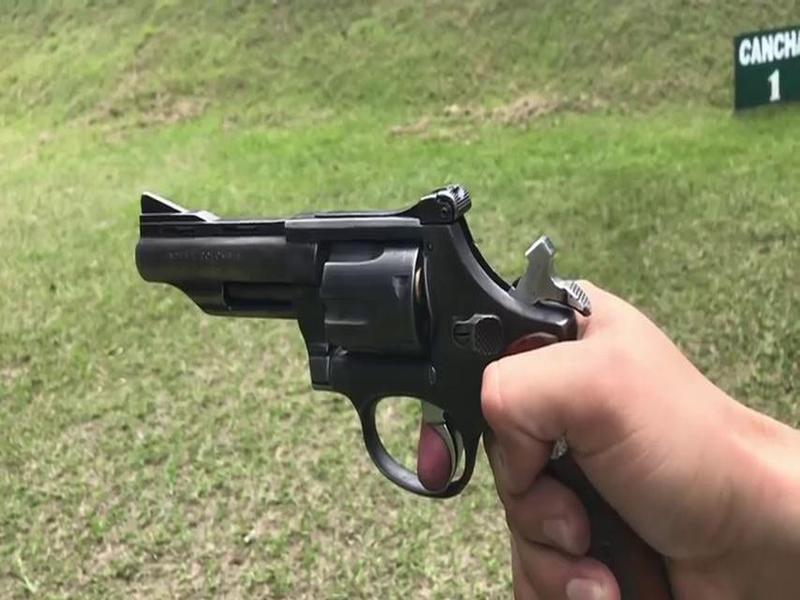Revolver: (122, 166, 600, 577)
